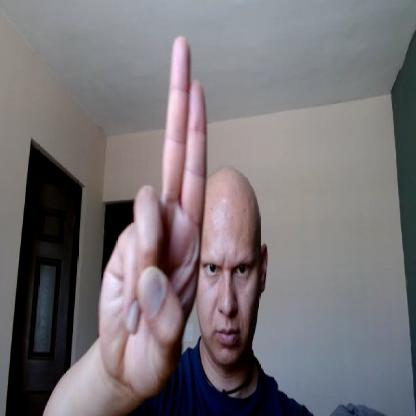U: (97, 33, 206, 391)
